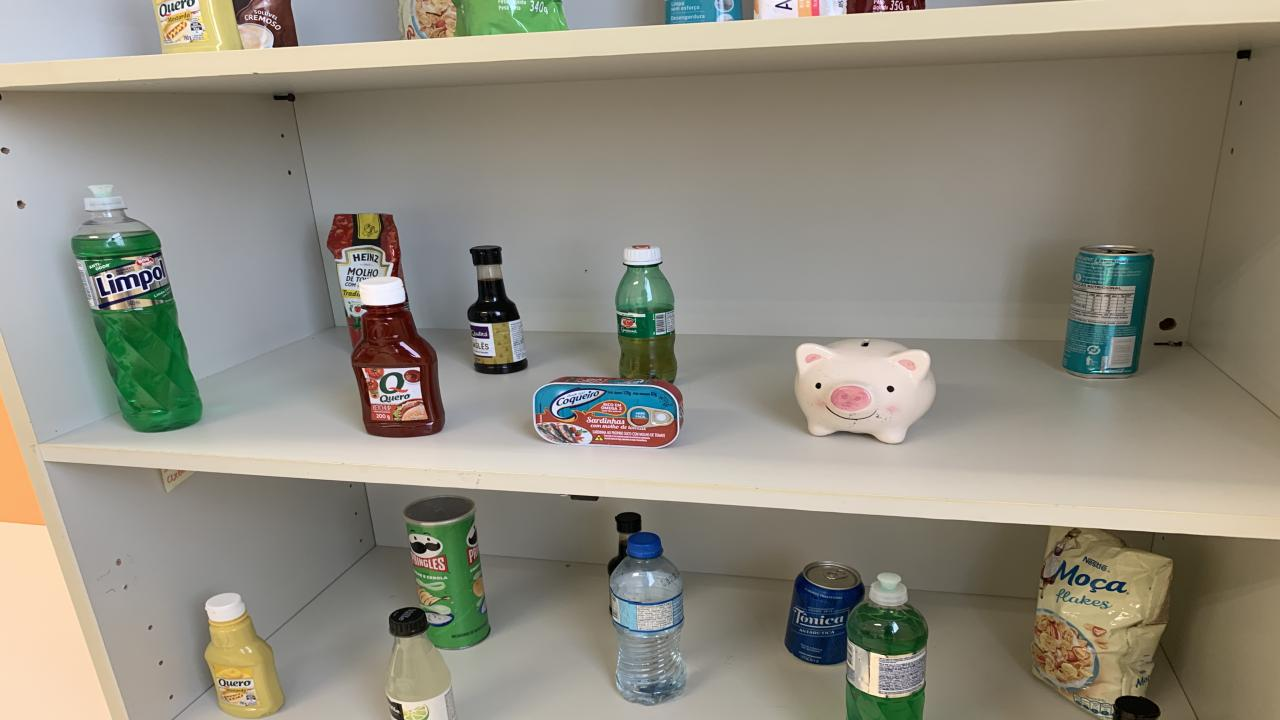Cleaner-Cleanup_Items: (665, 0, 742, 24)
Coffee-Pantry_Items: (232, 0, 298, 49)
Detergent-Cleanup_Items: (70, 188, 202, 431), (845, 572, 928, 720)
English_Sauce-Pantry_Items: (468, 246, 528, 373), (608, 512, 642, 572), (1112, 696, 1160, 720)
Flakes-Snacks: (1032, 527, 1172, 718), (412, 0, 458, 38)
Guarana-Drinks: (615, 246, 678, 382)
Ketchup-Pantry_Items: (350, 278, 445, 437)
Mustard-Pantry_Items: (205, 592, 285, 718), (152, 0, 242, 54)
Pig_Safe-Miscellaneous: (795, 338, 935, 444)
Pringles-Snacks: (402, 495, 490, 649)
Soap-Cleanup_Items: (755, 0, 845, 19)
Soda-Drinks: (385, 608, 455, 720)
Tea-Drinks: (1062, 244, 1155, 377)
Tomato_Sauce-Pantry_Items: (328, 214, 402, 345), (452, 0, 568, 36)
Tonic-Drinks: (785, 561, 865, 666)
Tuna_Can-Pantry_Items: (532, 377, 682, 448)
Water_Bottle-Drinks: (610, 532, 685, 705)
